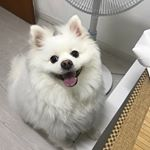puppy: (8, 11, 108, 150)
